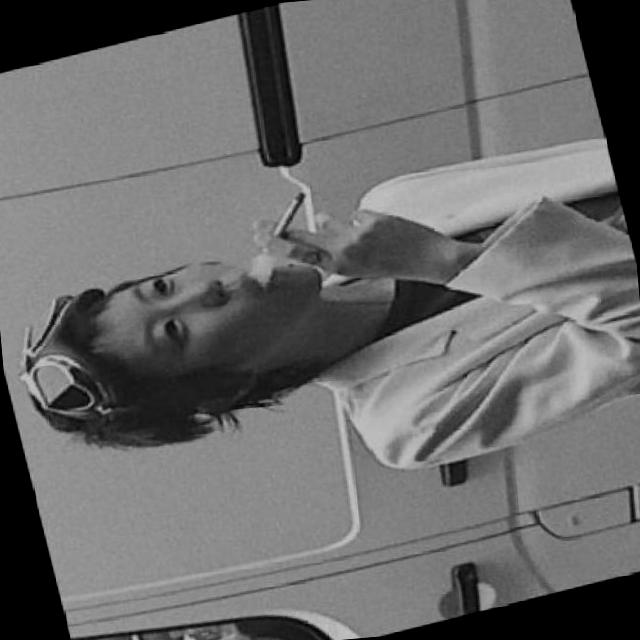smoke: (259, 188, 314, 240)
